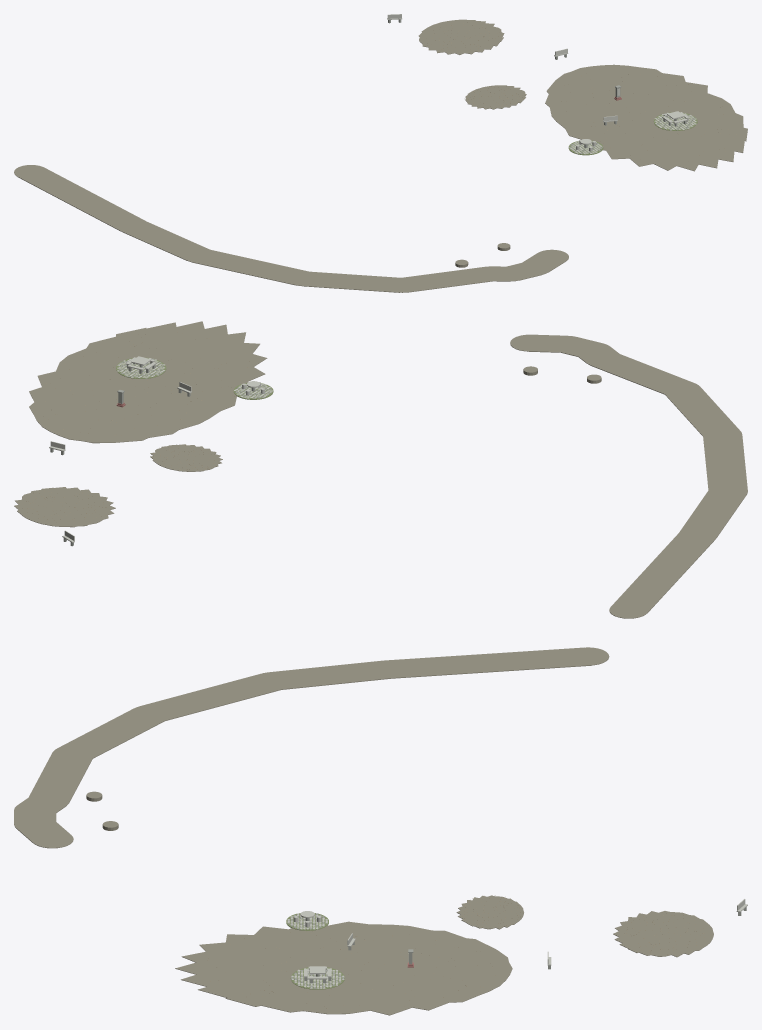
File: grove-fixtures.glb
3 renders of one model, top to bottom at view 1: azimuth 30°, elevation 25°; view 2: azimuth 150°, elevation 25°; view 3: azimuth 270°, elevation 25°, orthographic. The views are drawn at different scales.
Parts seen in each view (by area): view 1: grove-fixtures; view 2: grove-fixtures; view 3: grove-fixtures.
Boxes of the visible parts, x1,y1,x2,y2 form: grove-fixtures: [14, 14, 747, 292]; grove-fixtures: [14, 321, 747, 618]; grove-fixtures: [14, 647, 747, 1015].
Bounding box in the file's own units: 85.28 × 2.05 × 71.92.
